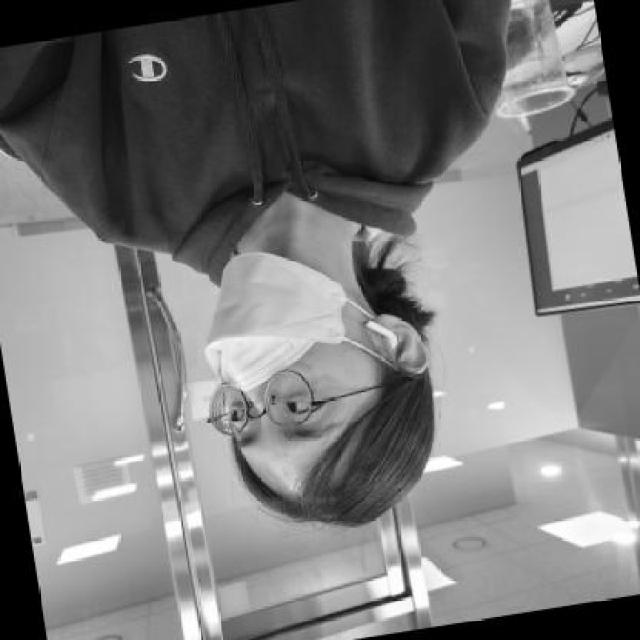earphone: (364, 315, 412, 361)
laptop_computer: (498, 128, 640, 344)
